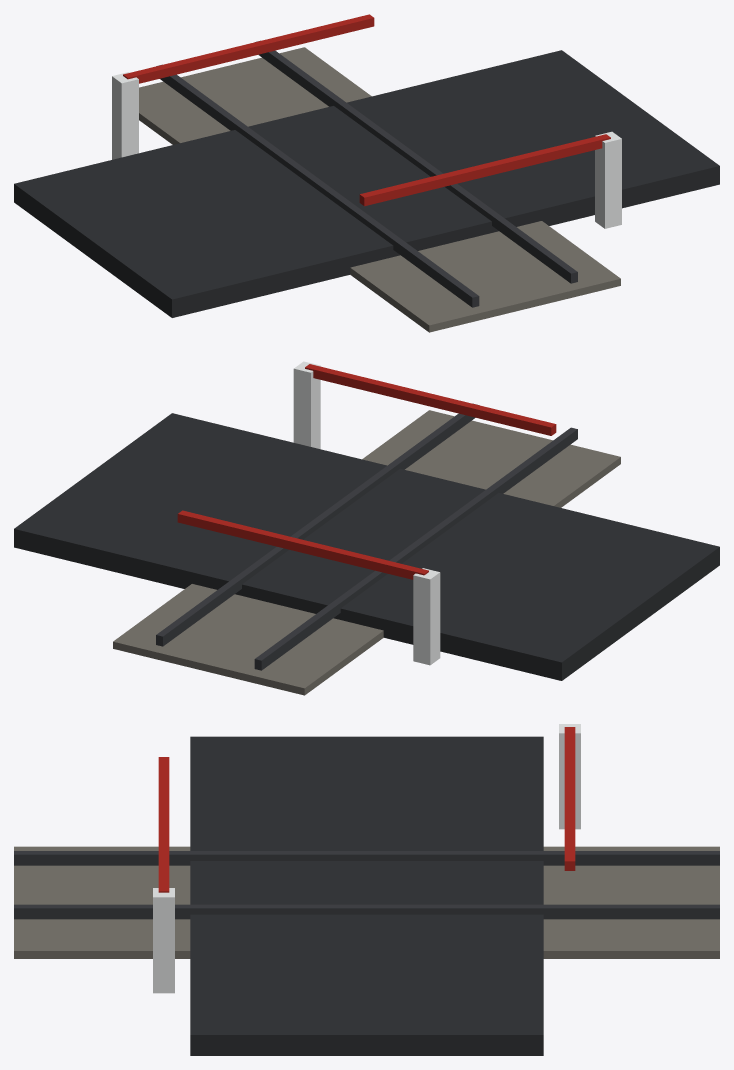
The model's file is road_rail_v_crossing_lod2.glb.
3 renders of one model, top to bottom at view 1: azimuth 30°, elevation 25°; view 2: azimuth 150°, elevation 25°; view 3: azimuth 270°, elevation 25°, orthographic. The views are drawn at different scales.
Visible parts, largest first — view 1: body, barrier_1, barrier_0; view 2: body, barrier_0, barrier_1; view 3: body, barrier_1, barrier_0.
Boxes of the visible parts, x1,y1,x2,y2 form: body: (14, 40, 719, 332); barrier_1: (359, 131, 621, 228); barrier_0: (112, 14, 374, 159); body: (14, 403, 719, 695); barrier_0: (177, 510, 440, 665); barrier_1: (293, 361, 556, 449); body: (14, 736, 719, 1055); barrier_1: (153, 757, 174, 993); barrier_0: (559, 724, 580, 870).
Size of the model in its own units: 8 by 1.22 by 8.
